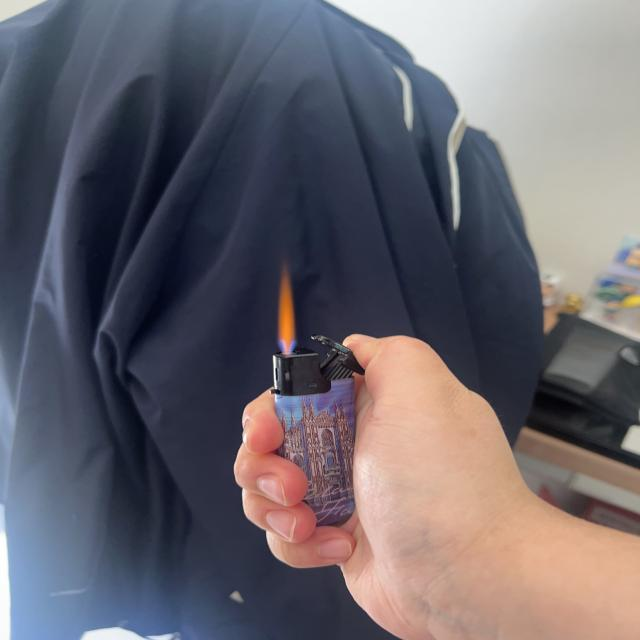fire: (273, 264, 298, 356)
